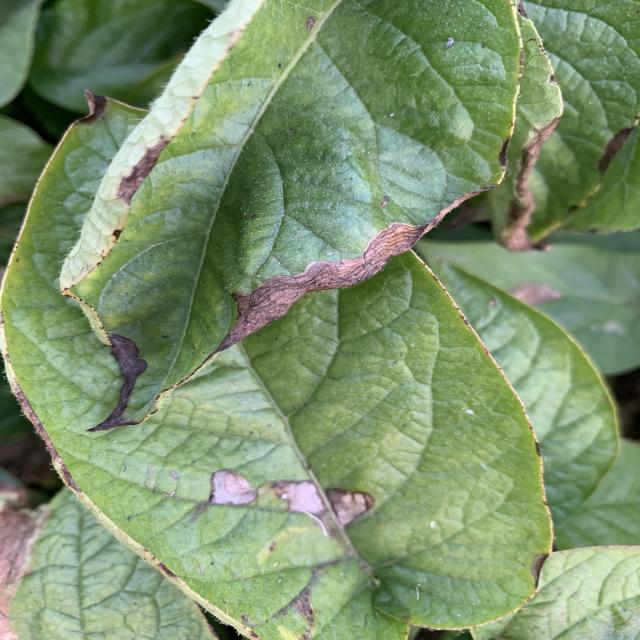lateblight: (213, 215, 440, 354), (488, 100, 565, 239), (208, 469, 373, 530), (113, 96, 198, 206), (87, 334, 147, 431)
